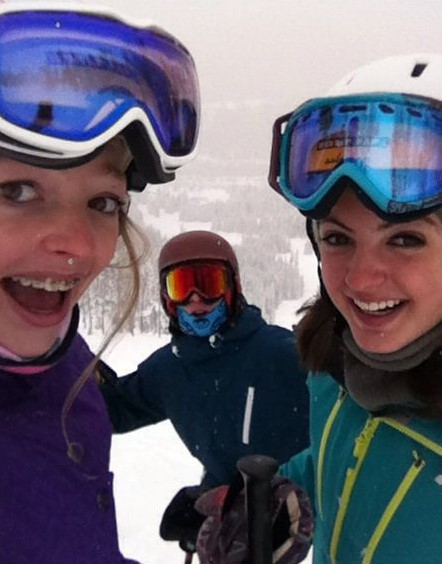face_no_mask: (1, 90, 130, 366), (303, 145, 442, 350)
